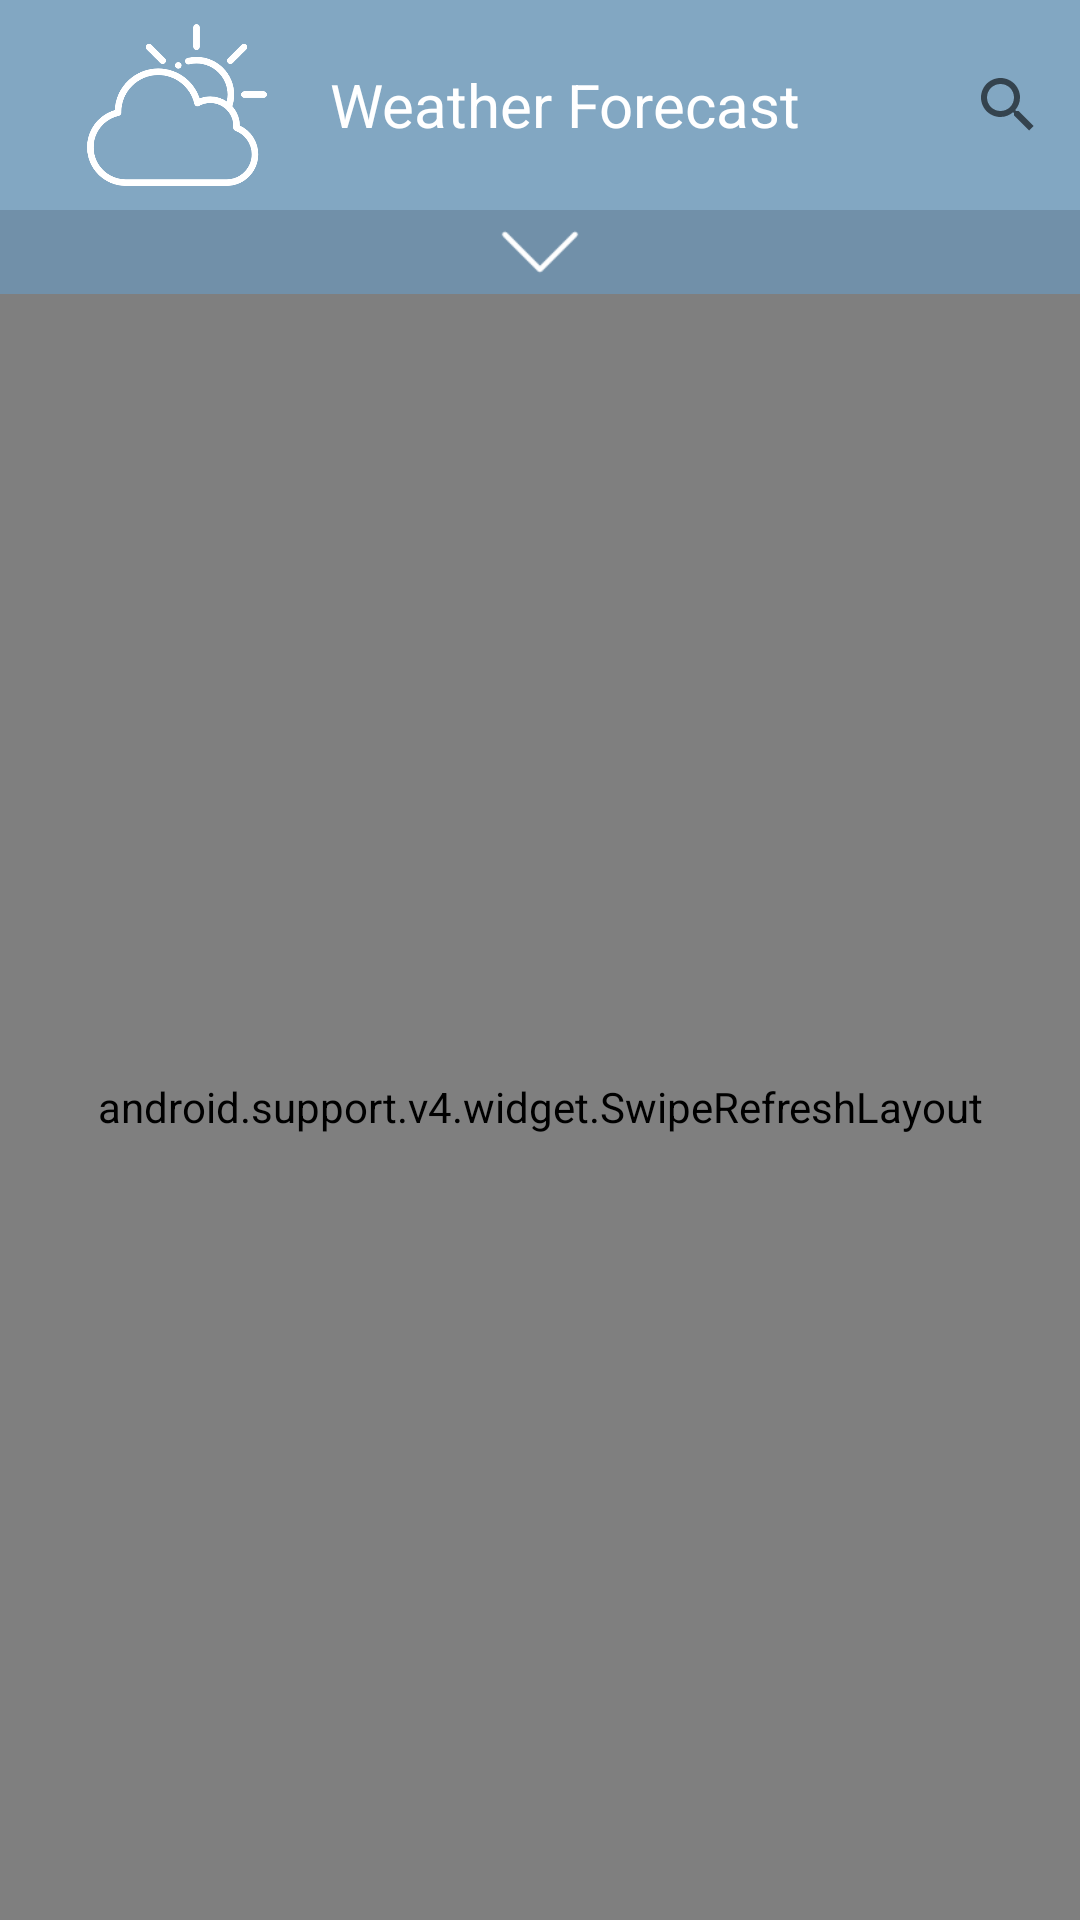

Named icons in this screenshot (1080w x 1920h) and their bounding boxes, (x1, y1, x2, y2):
cloudy: (87, 24, 267, 186)
